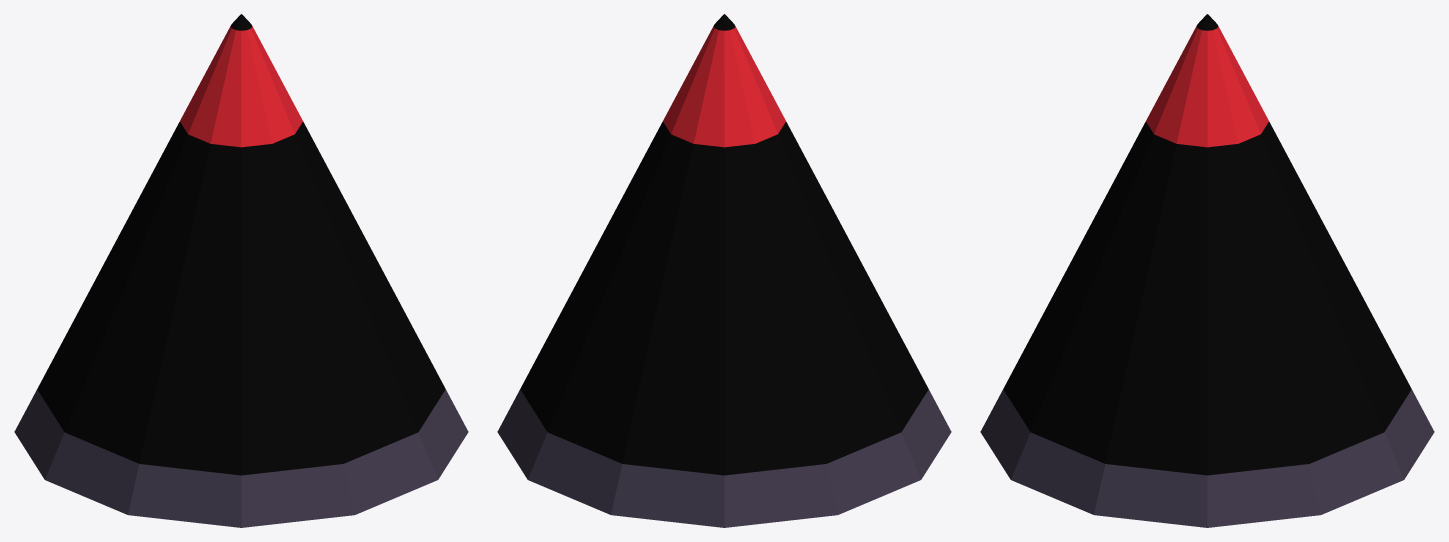
The model's file is rocket Tip.fbx.
3 renders of one model, left to right at view 1: azimuth 30°, elevation 25°; view 2: azimuth 150°, elevation 25°; view 3: azimuth 270°, elevation 25°, orthographic.
Visible parts, largest first — view 1: Rocket Tip; view 2: Rocket Tip; view 3: Rocket Tip.
Boxes of the visible parts, box(x1,y1,x2,y2) form: Rocket Tip: box(14, 14, 468, 527); Rocket Tip: box(497, 14, 951, 527); Rocket Tip: box(980, 14, 1434, 527).
Size of the model in its own units: 200 by 203 by 200.
